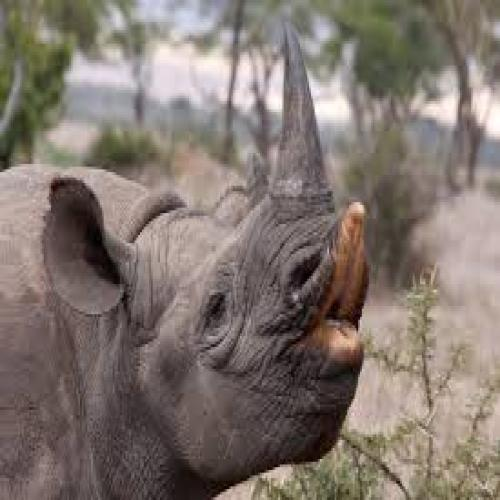rhino-endangered: (4, 13, 370, 490)
